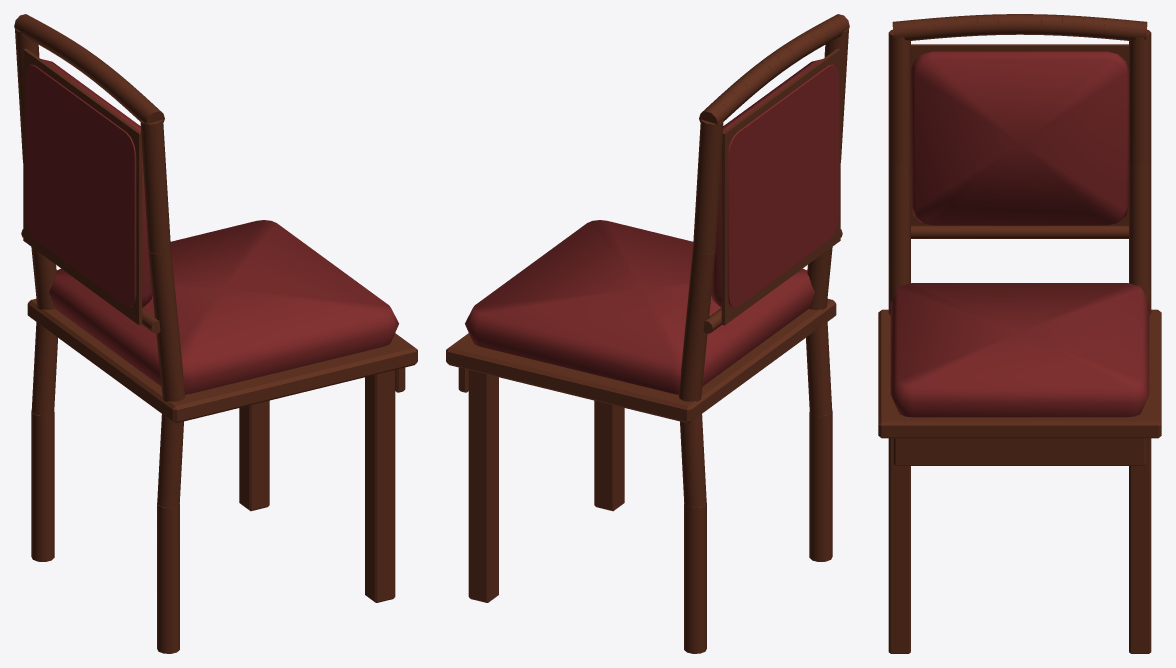
File: parametric-chair-2nd.glb
The picture shows the model from 3 angles, left to right: view 1: azimuth 30°, elevation 25°; view 2: azimuth 150°, elevation 25°; view 3: azimuth 270°, elevation 25°; orthographic projection. The views are drawn at different scales.
Parts seen in each view (by area): view 1: parametric-chair-2nd; view 2: parametric-chair-2nd; view 3: parametric-chair-2nd.
Boxes of the visible parts, bbox=[...] form: parametric-chair-2nd: bbox=[14, 14, 417, 653]; parametric-chair-2nd: bbox=[446, 14, 849, 653]; parametric-chair-2nd: bbox=[878, 14, 1161, 653].
Bounding box in the file's own units: 0.4771 × 0.9462 × 0.46.
